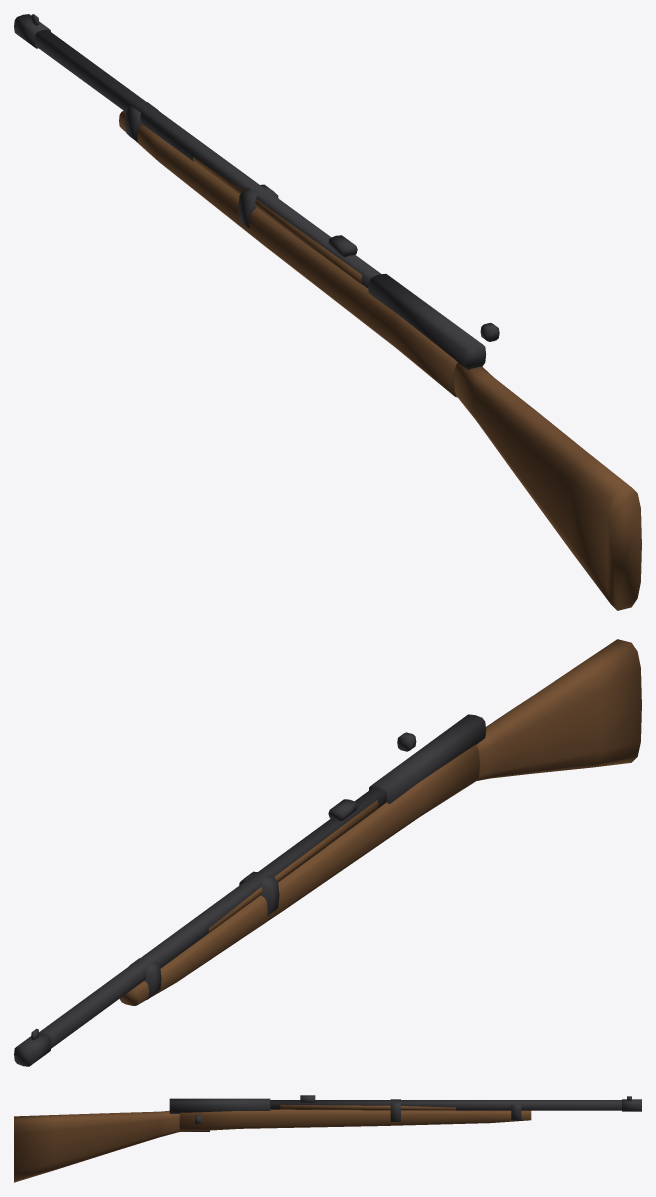
The model's file is tufek.glb.
The picture shows the model from 3 angles, top to bottom: view 1: azimuth 30°, elevation 25°; view 2: azimuth 150°, elevation 25°; view 3: azimuth 270°, elevation 25°; orthographic projection. The views are drawn at different scales.
Visible parts, largest first — view 1: tufek; view 2: tufek; view 3: tufek.
Boxes of the visible parts, <box> form: tufek: <box>14,14,641,610</box>; tufek: <box>14,639,641,1066</box>; tufek: <box>14,1095,641,1182</box>.
Bounding box in the file's own units: 0.079 × 0.1859 × 1.25.
